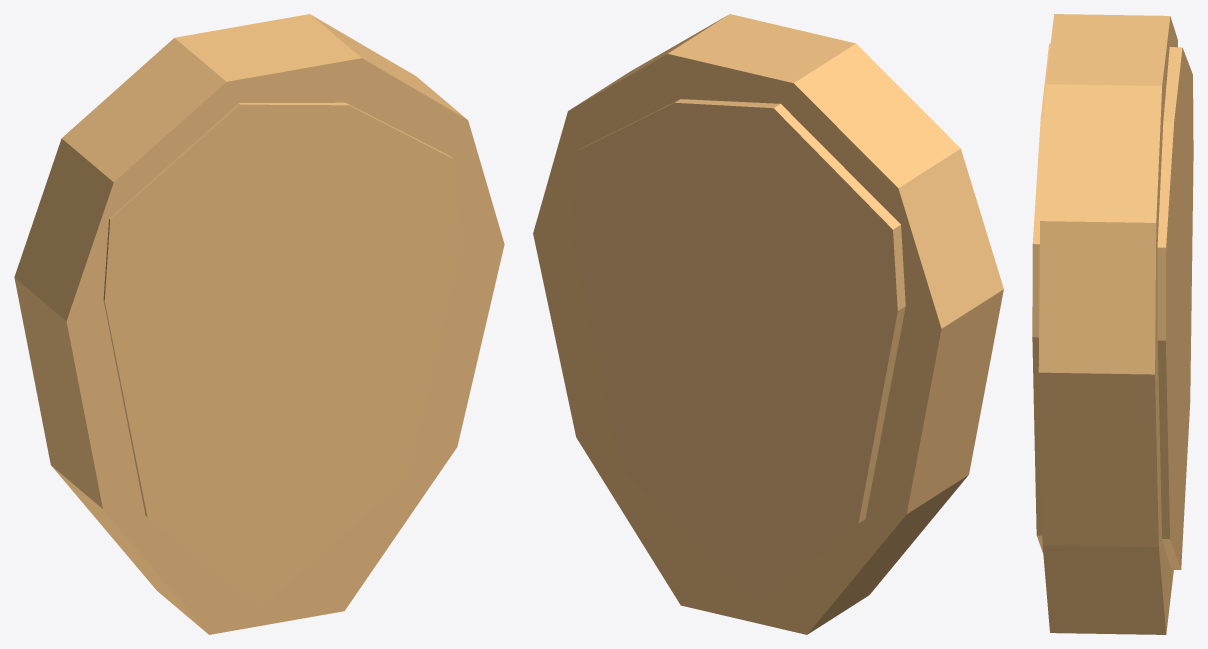
File: squash_seed.fbx
3 views of the same model, side by side, from view 1: azimuth 30°, elevation 25°; view 2: azimuth 150°, elevation 25°; view 3: azimuth 270°, elevation 25° (orthographic).
Parts seen in each view (by area): view 1: group_369606806, group_1974478765; view 2: group_369606806, group_1974478765; view 3: group_1974478765, group_369606806.
Boxes of the visible parts, bbox=[...] form: group_369606806: bbox=[103, 102, 460, 608]; group_1974478765: bbox=[14, 14, 504, 634]; group_369606806: bbox=[572, 99, 905, 606]; group_1974478765: bbox=[533, 14, 1003, 634]; group_1974478765: bbox=[1038, 14, 1177, 634]; group_369606806: bbox=[1032, 43, 1193, 569].
Size of the model in its own units: 7.07 by 8.75 by 2.27.
